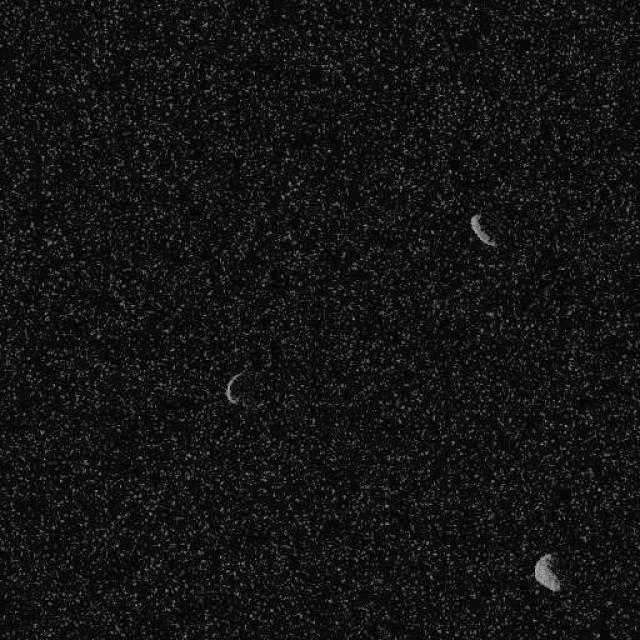D2: (532, 552, 562, 592), (469, 210, 496, 248), (224, 369, 246, 405)
